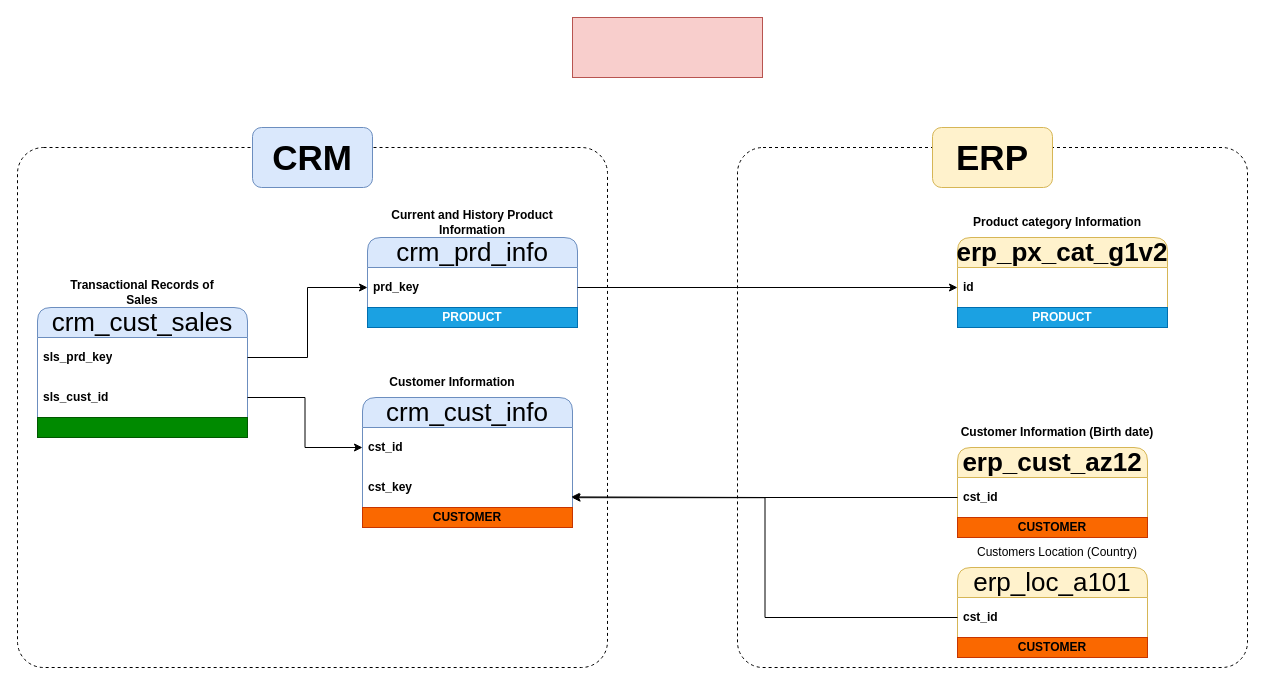
Image size: 1265x685. Some labels were removed from this diagram. Here are the shapes that lost their labels. From the top down, the centre of each, then its label:
point 667,47: Gold Integration Model
point 142,427: SALES
